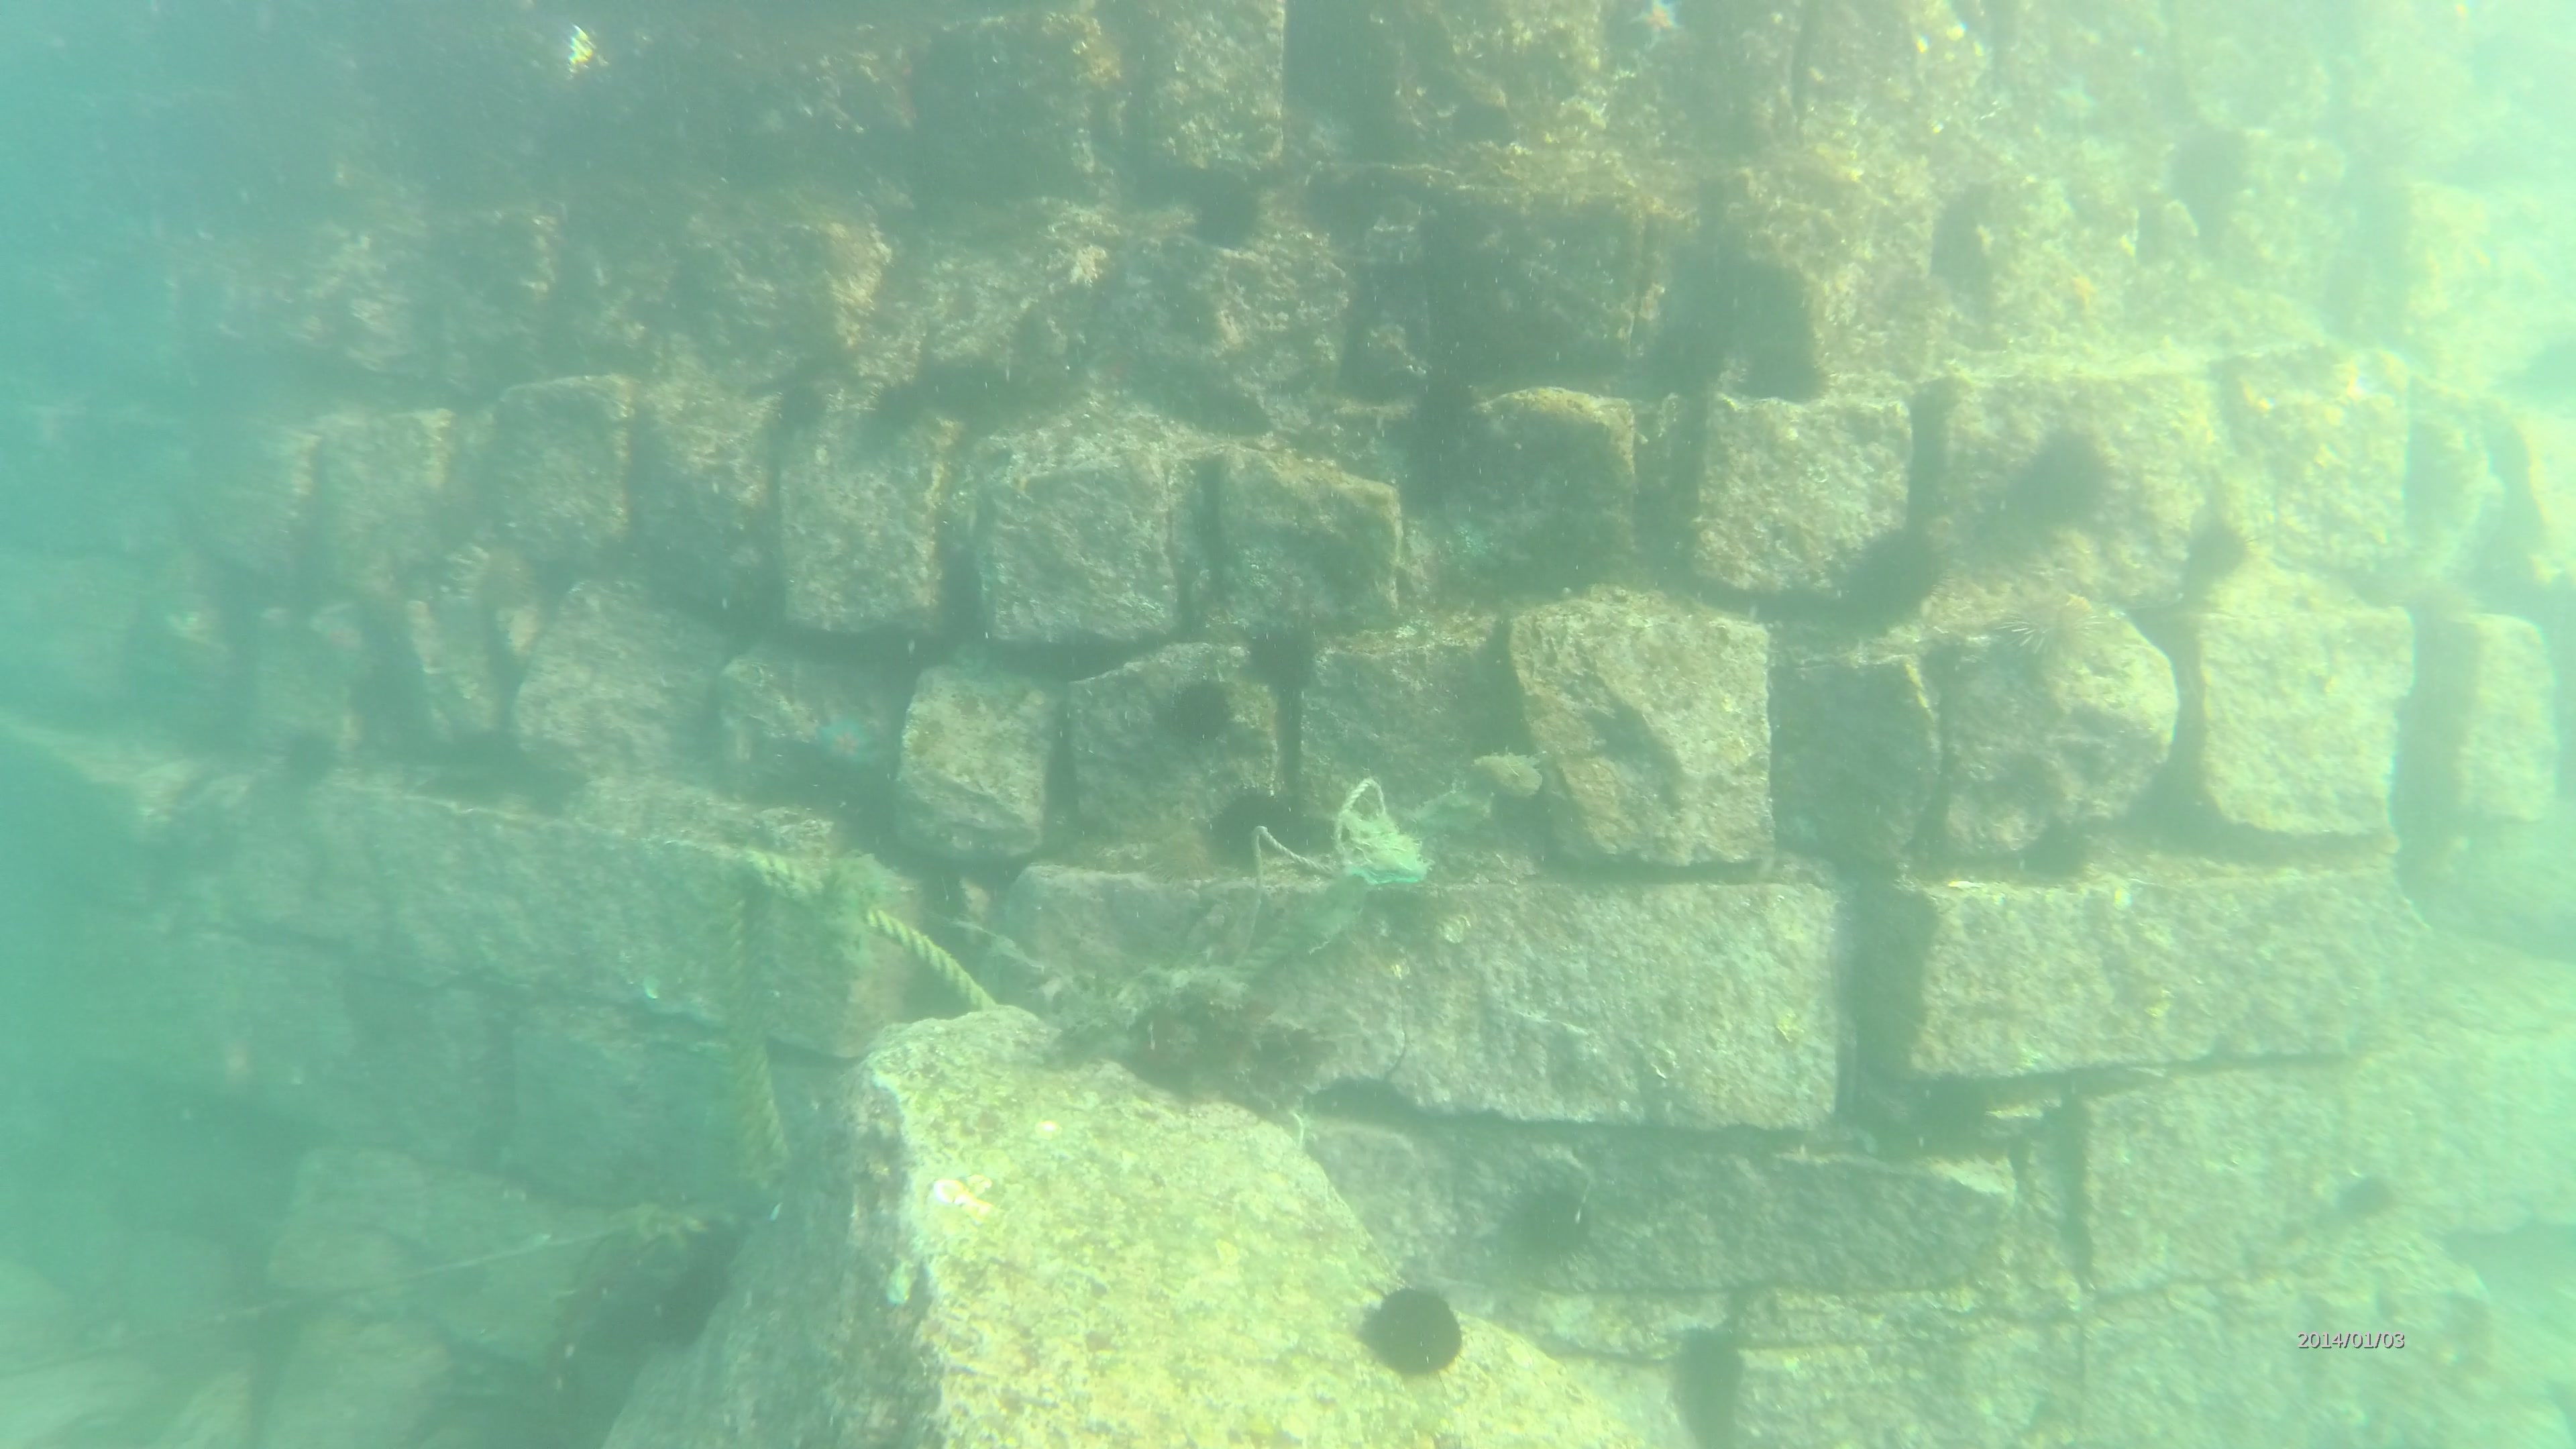echinus: (2015, 410, 2125, 543), (1361, 1272, 1479, 1389), (633, 1246, 748, 1355), (1842, 511, 1946, 623), (1994, 582, 2112, 679), (1207, 782, 1315, 878), (2013, 798, 2102, 893), (1511, 1171, 1599, 1263), (278, 704, 352, 794), (1192, 179, 1274, 257), (1732, 341, 1828, 407), (1244, 623, 1330, 690), (2332, 1164, 2406, 1228), (770, 372, 833, 441), (1171, 679, 1233, 750), (874, 379, 931, 444)
starfish: (810, 706, 899, 809), (2043, 67, 2114, 150), (1619, 0, 1693, 62)
